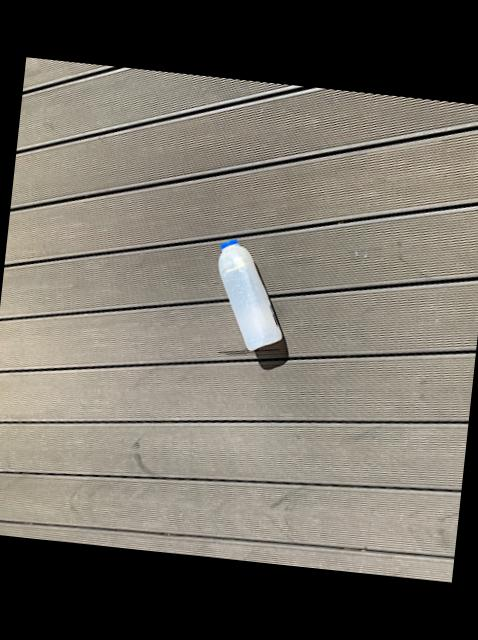plastic: (219, 245, 282, 351)
